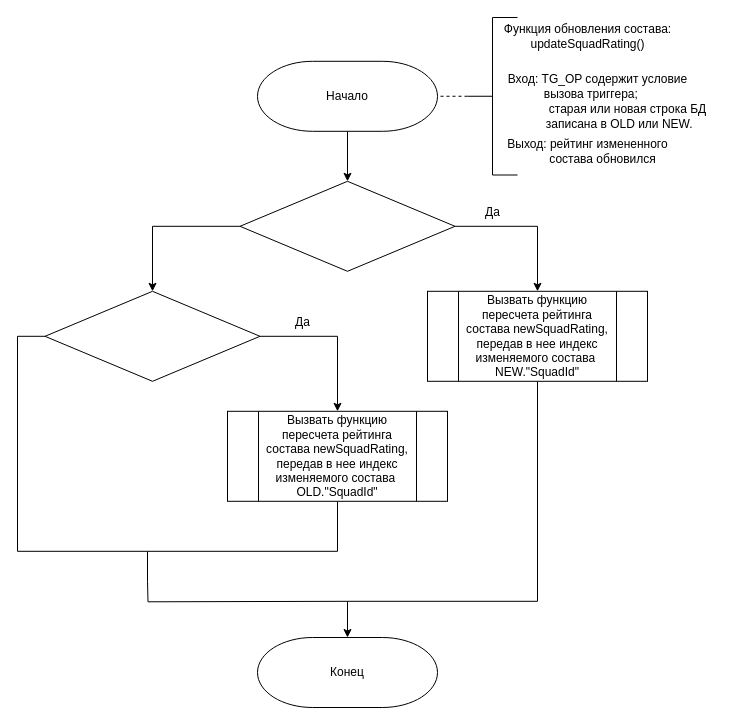
Image size: 735x725. Some labels were removed from this diagram. The shapes that lost their labels are listed below. From the top down, each one's box as (x1, y1, x2, y2) in pixels, then its label:
(239, 180, 455, 271): TG_OP == 'INSERT'?
(44, 290, 260, 381): TG_OP == 'DELETE'?
